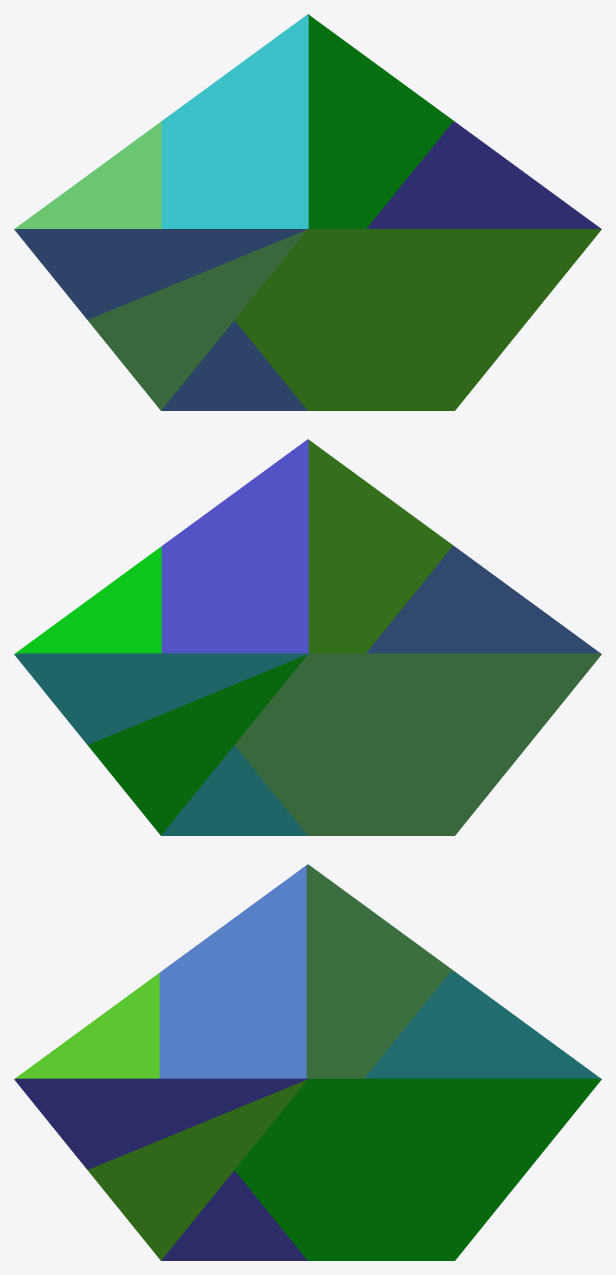
The model's file is boatdisk2.glb.
3 renders of one model, top to bottom at view 1: azimuth 30°, elevation 25°; view 2: azimuth 150°, elevation 25°; view 3: azimuth 270°, elevation 25°, orthographic.
Parts seen in each view (by area): view 1: Solid.003, Solid.006, Solid.005, Solid.008, Solid.004, Solid.007; view 2: Solid.005, Solid.007, Solid.004, Solid.006, Solid.003, Solid.008; view 3: Solid.004, Solid.008, Solid.003, Solid.007, Solid.005, Solid.006.
Part boxes in pixels (x1,y1,x2,y2): Solid.003: (234,122,601,410); Solid.006: (161,14,308,228); Solid.005: (14,122,307,410); Solid.008: (14,229,310,410); Solid.004: (161,14,454,228); Solid.007: (366,121,601,229); Solid.005: (234,653,601,835); Solid.007: (161,439,308,653); Solid.004: (14,547,307,835); Solid.006: (14,653,311,835); Solid.003: (161,439,454,653); Solid.008: (366,545,601,654); Solid.004: (234,972,601,1260); Solid.008: (159,864,307,1078); Solid.003: (14,973,307,1260); Solid.007: (14,1078,309,1260); Solid.005: (306,864,454,1078); Solid.006: (364,971,601,1079).
Bounding box in the file's own units: 1.41 × 0.6667 × 1.63.
